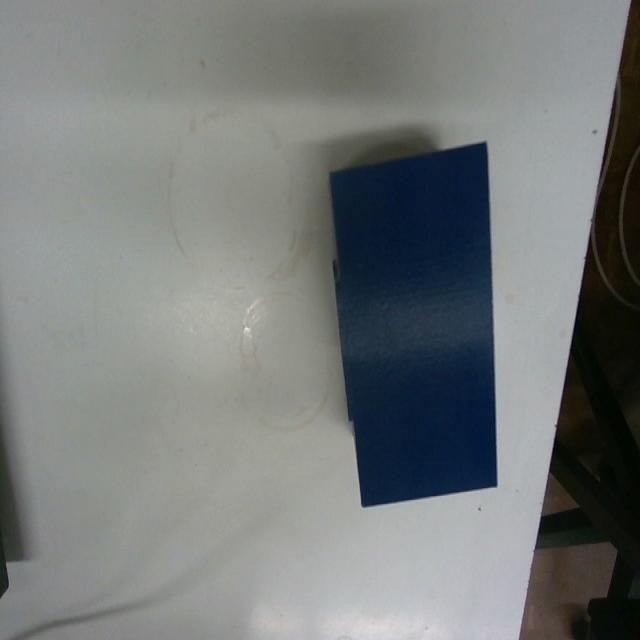Blue Cuboid: (326, 137, 499, 508)
